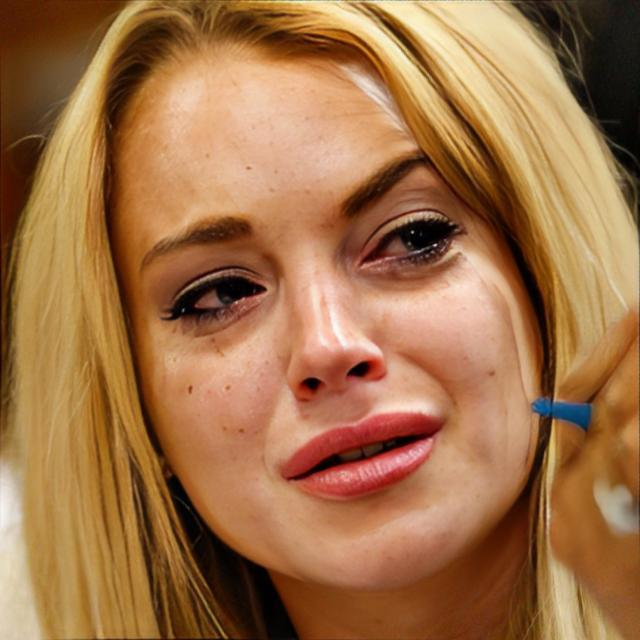sad: (125, 34, 543, 590)
